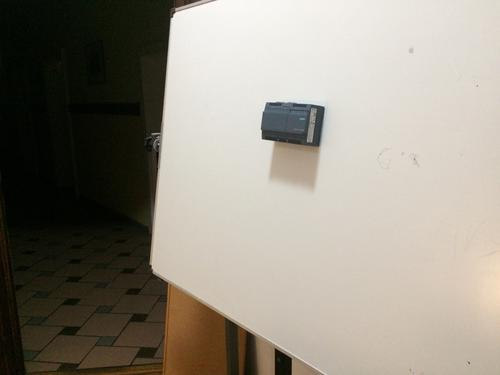iot2000: (261, 101, 326, 148)
